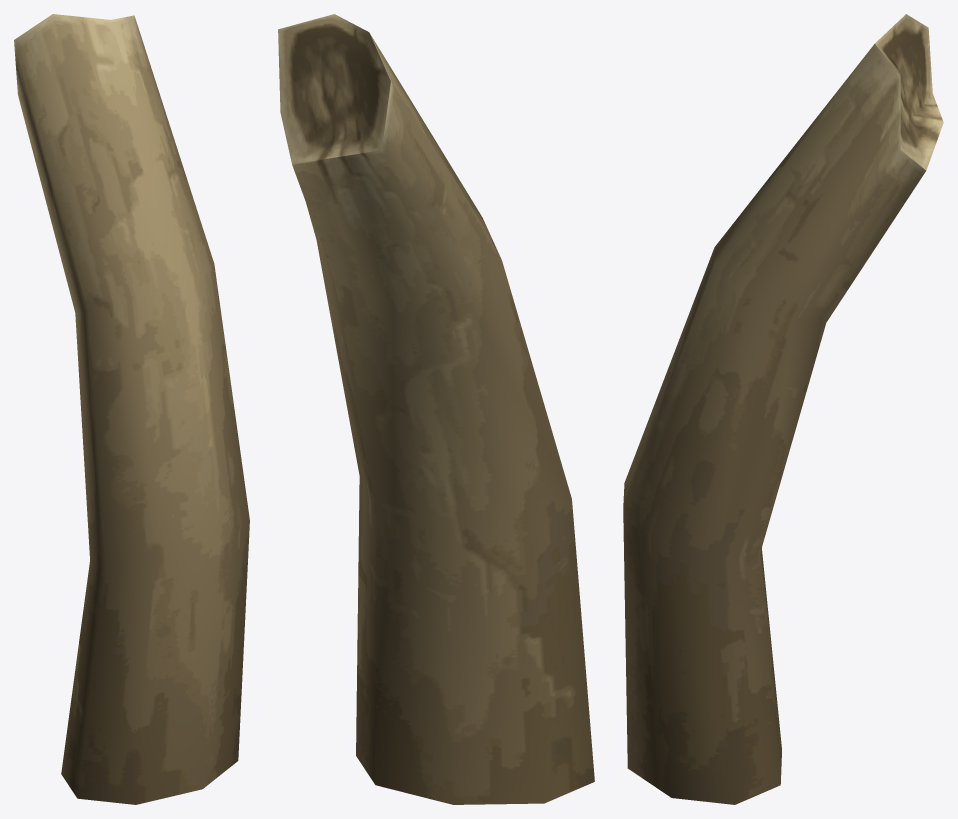
File: rib_pillar_01_7084d3dd.glb
3 views of the same model, side by side, from view 1: azimuth 30°, elevation 25°; view 2: azimuth 150°, elevation 25°; view 3: azimuth 270°, elevation 25° (orthographic). The views are drawn at different scales.
Bounding box in the file's own units: 0.8134 × 2.99 × 1.17.
1 material, 1 textured.
